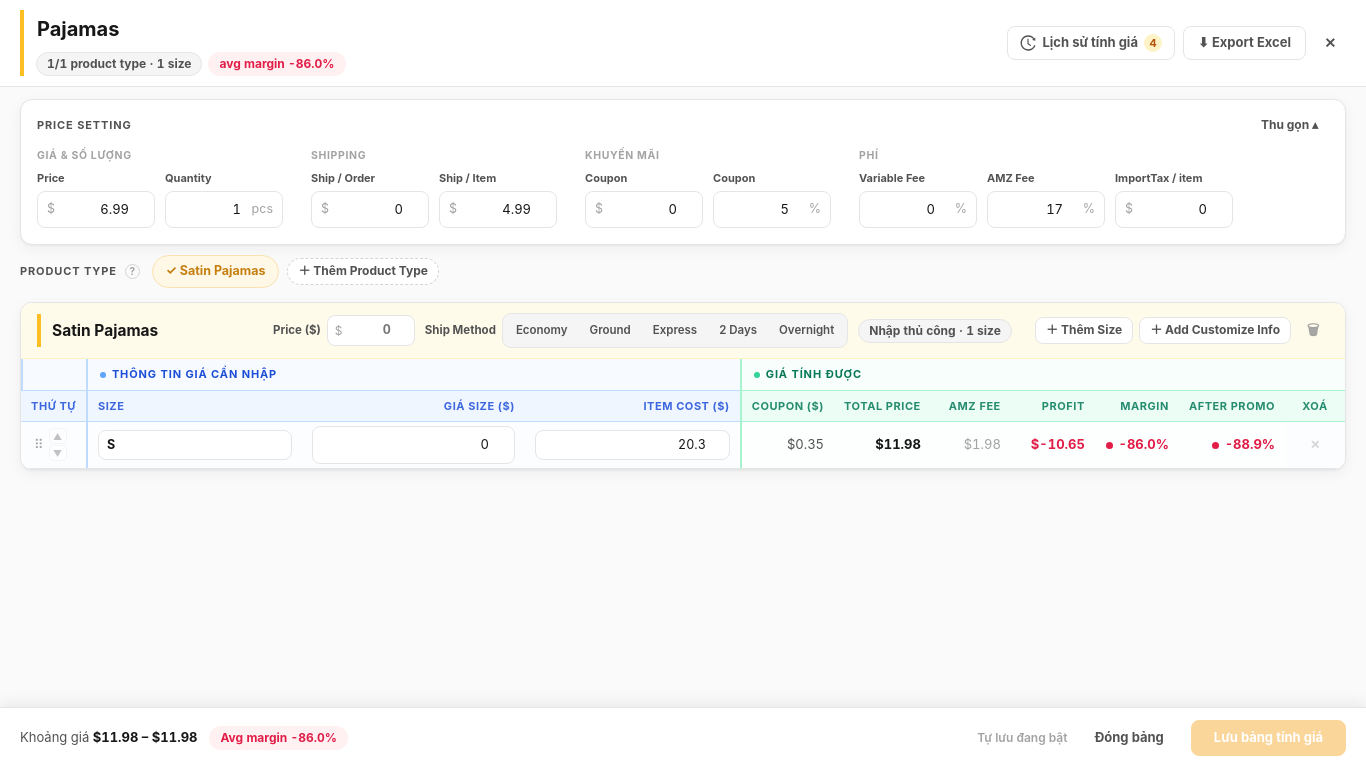
Test: nút Lưu = chốt mốc phiên bản › sửa tiếp sau khi chốt mốc thì nút sáng lại
Replace the text in the field named "Tên bảng tính giá" with "Pajamas!" at (190, 29), box [28,10,352,48]
Wait 3000 ms
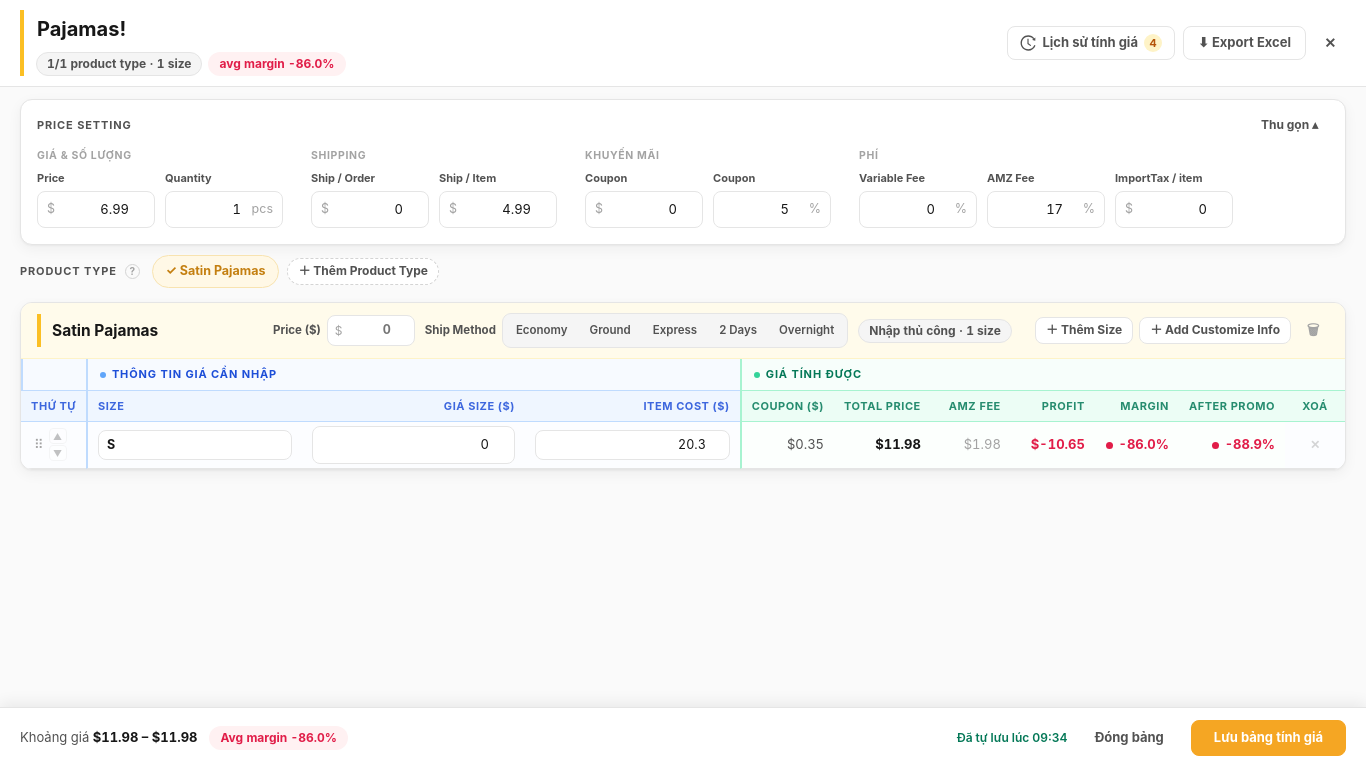
Click the button "Lưu bảng tính giá".
click(1268, 738)  # box [1191,720,1346,756]
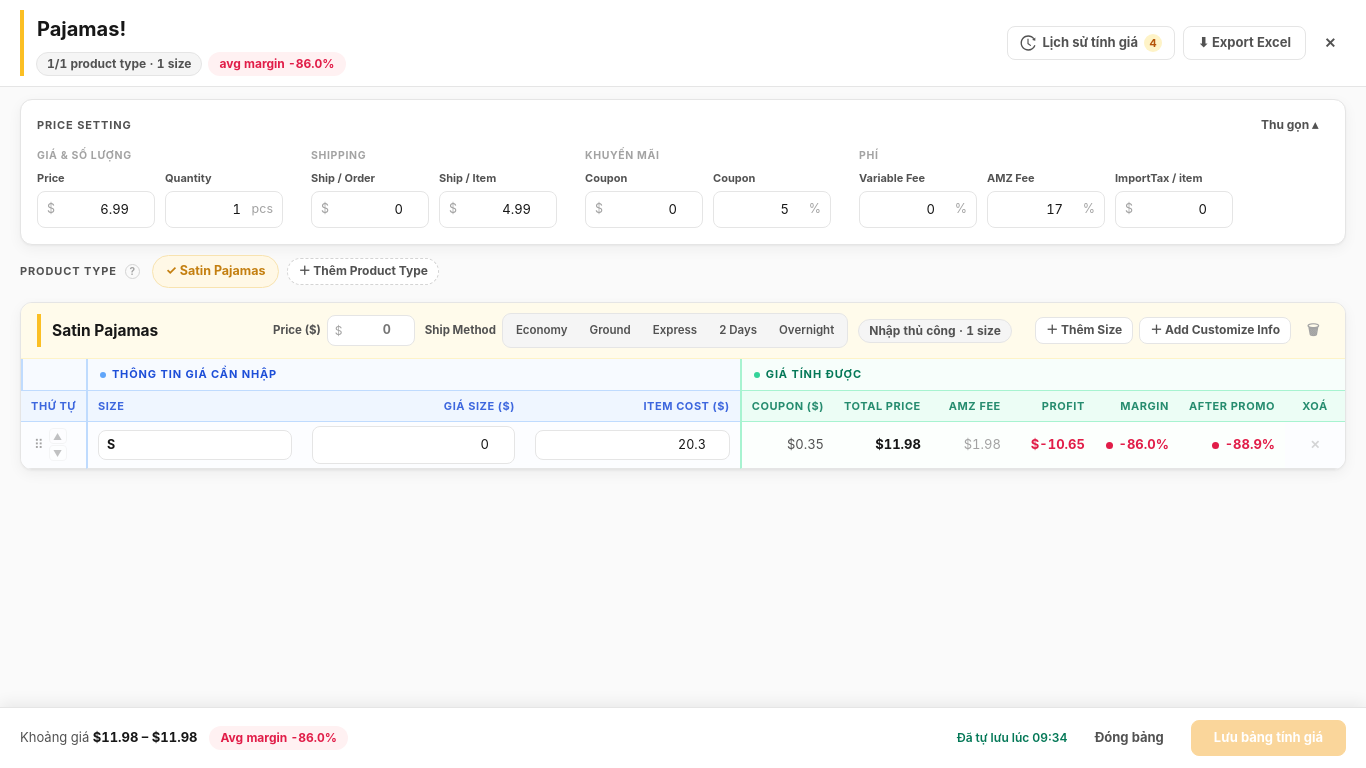
Now the button "Lưu bảng tính giá" is disabled, box [1191,720,1346,756]
Replace the text in the field named "Tên bảng tính giá" with "Pajamas!?" at (190, 29), box [28,10,352,48]
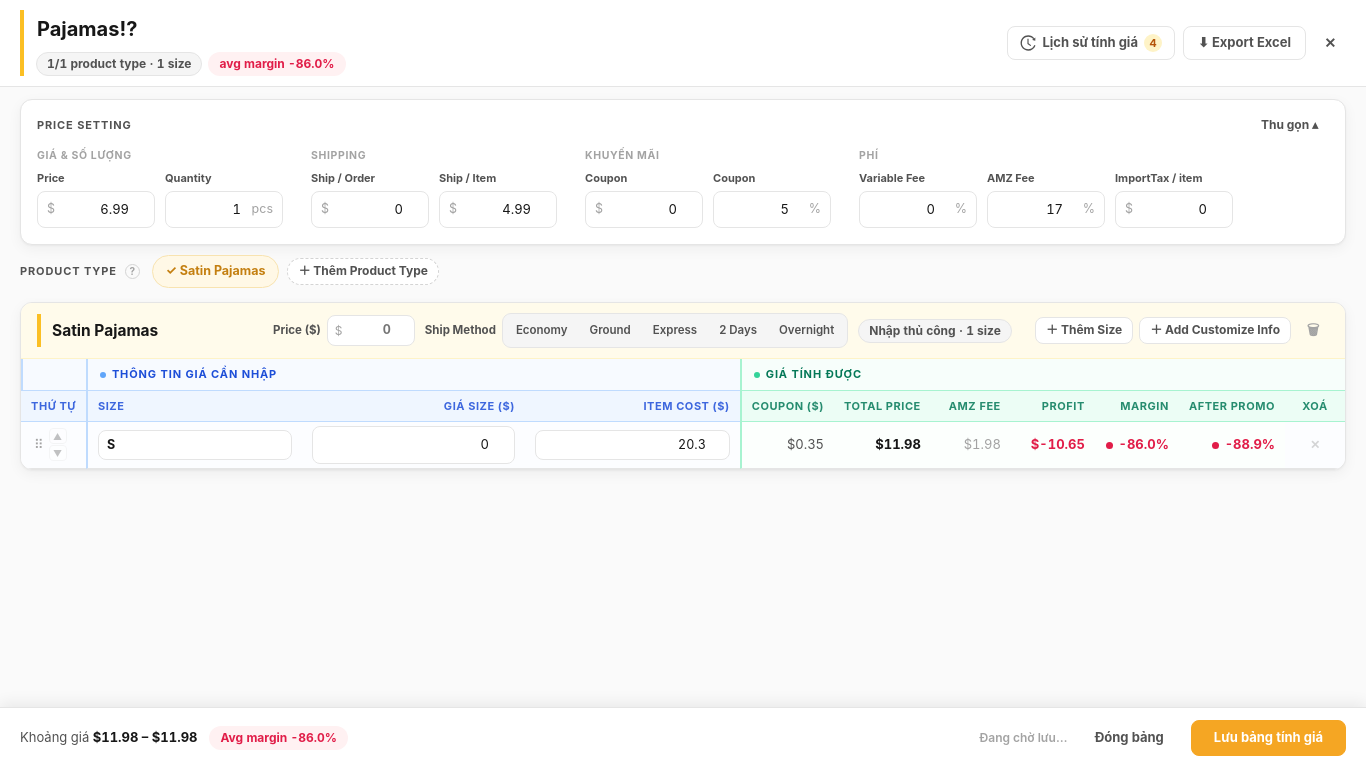
Now the button "Lưu bảng tính giá" is enabled, box [1191,720,1346,756]
